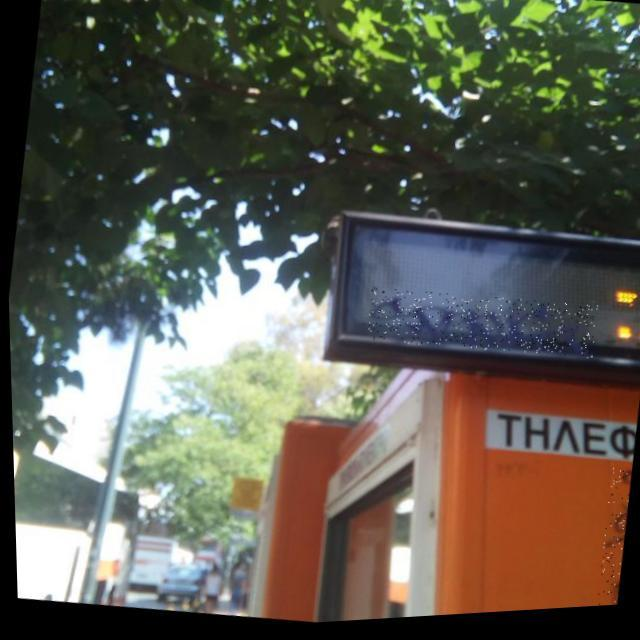-: (362, 282, 596, 376), (585, 472, 632, 614)
